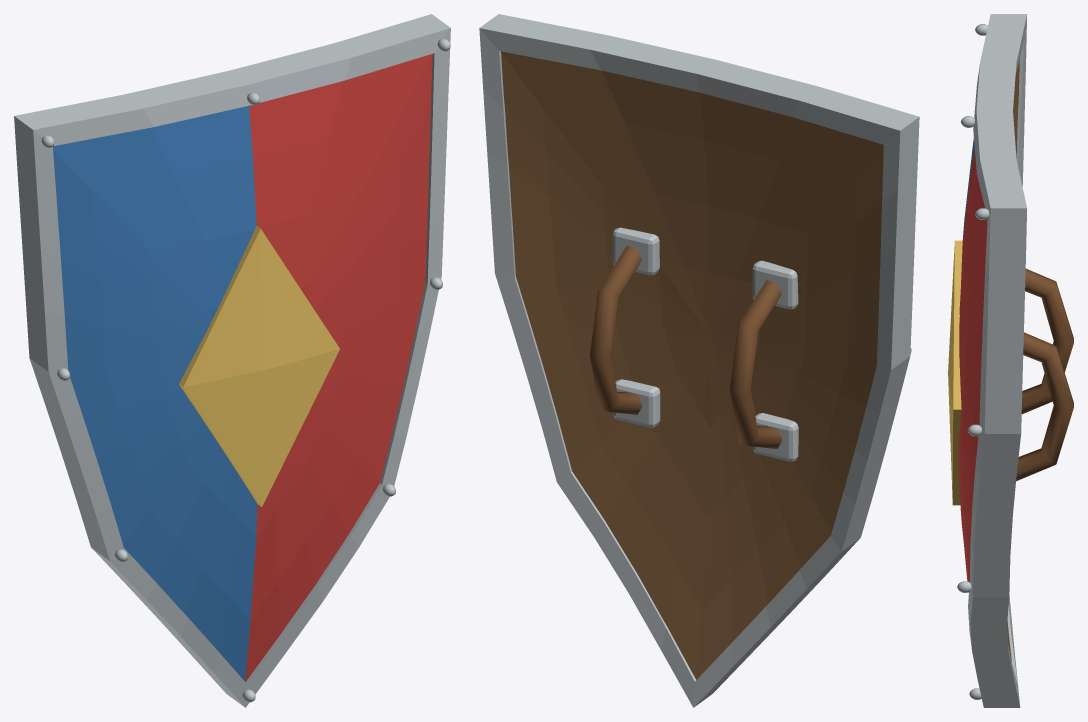
File: shield_heater.glb
The picture shows the model from 3 angles, left to right: view 1: azimuth 30°, elevation 25°; view 2: azimuth 150°, elevation 25°; view 3: azimuth 270°, elevation 25°; orthographic projection. The views are drawn at different scales.
Visible parts, largest first — view 1: Heater curved two-color shield, Heater shield solid silver edge rim, Heater shield raised gold diamond; view 2: Heater curved two-color shield, Heater shield solid silver edge rim, Heater shield rear leather grip.001, Heater shield rear leather grip, Heater shield grip mounting plate.003, Heater shield grip mounting plate.001, Heater shield grip mounting plate.002, Heater shield grip mounting plate; view 3: Heater shield solid silver edge rim, Heater curved two-color shield, Heater shield rear leather grip.001, Heater shield rear leather grip, Heater shield raised gold diamond.
Boxes of the visible parts, bbox=[...] form: Heater curved two-color shield: bbox=[53, 54, 432, 681]; Heater shield solid silver edge rim: bbox=[14, 14, 450, 707]; Heater shield raised gold diamond: bbox=[179, 226, 339, 506]; Heater curved two-color shield: bbox=[501, 51, 883, 679]; Heater shield solid silver edge rim: bbox=[479, 14, 919, 707]; Heater shield rear leather grip.001: bbox=[590, 246, 642, 414]; Heater shield rear leather grip: bbox=[730, 280, 782, 448]; Heater shield grip mounting plate.003: bbox=[612, 227, 659, 275]; Heater shield grip mounting plate.001: bbox=[752, 260, 798, 309]; Heater shield grip mounting plate.002: bbox=[613, 379, 660, 427]; Heater shield grip mounting plate: bbox=[753, 413, 798, 461]; Heater shield solid silver edge rim: bbox=[968, 14, 1026, 707]; Heater curved two-color shield: bbox=[958, 59, 1019, 661]; Heater shield rear leather grip.001: bbox=[1016, 332, 1073, 481]; Heater shield rear leather grip: bbox=[1021, 268, 1073, 414]; Heater shield raised gold diamond: bbox=[948, 240, 962, 505].
Bounding box in the file's own units: 0.6922 × 0.9918 × 0.1897.
